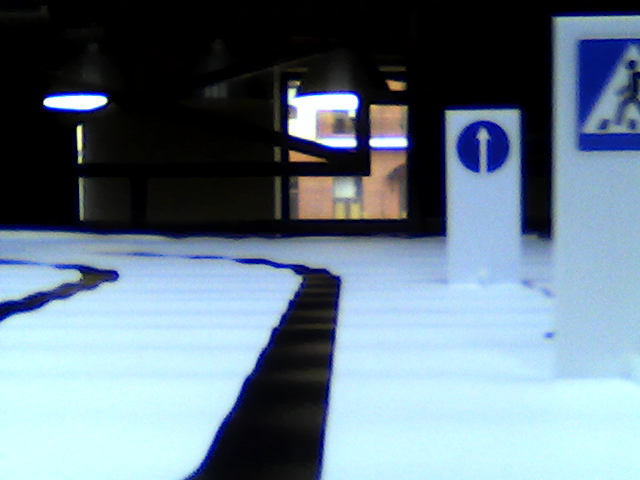forw: (456, 116, 507, 176)
pesh: (572, 38, 637, 159)
